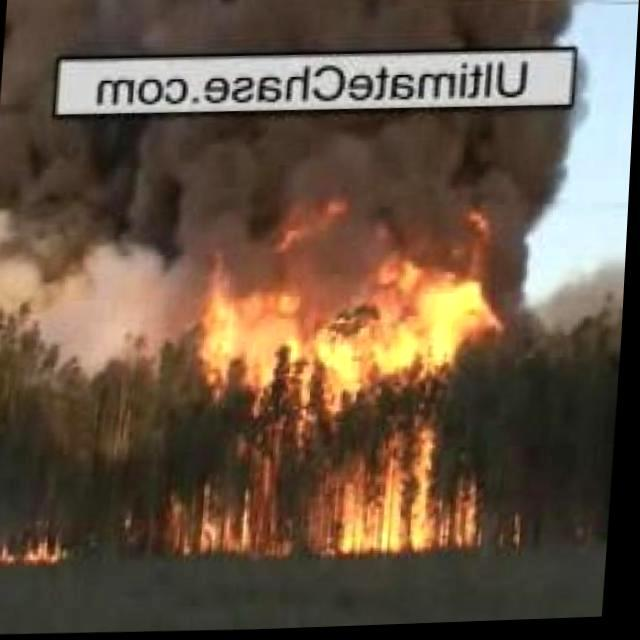fire: (169, 208, 499, 568), (0, 524, 76, 568)
